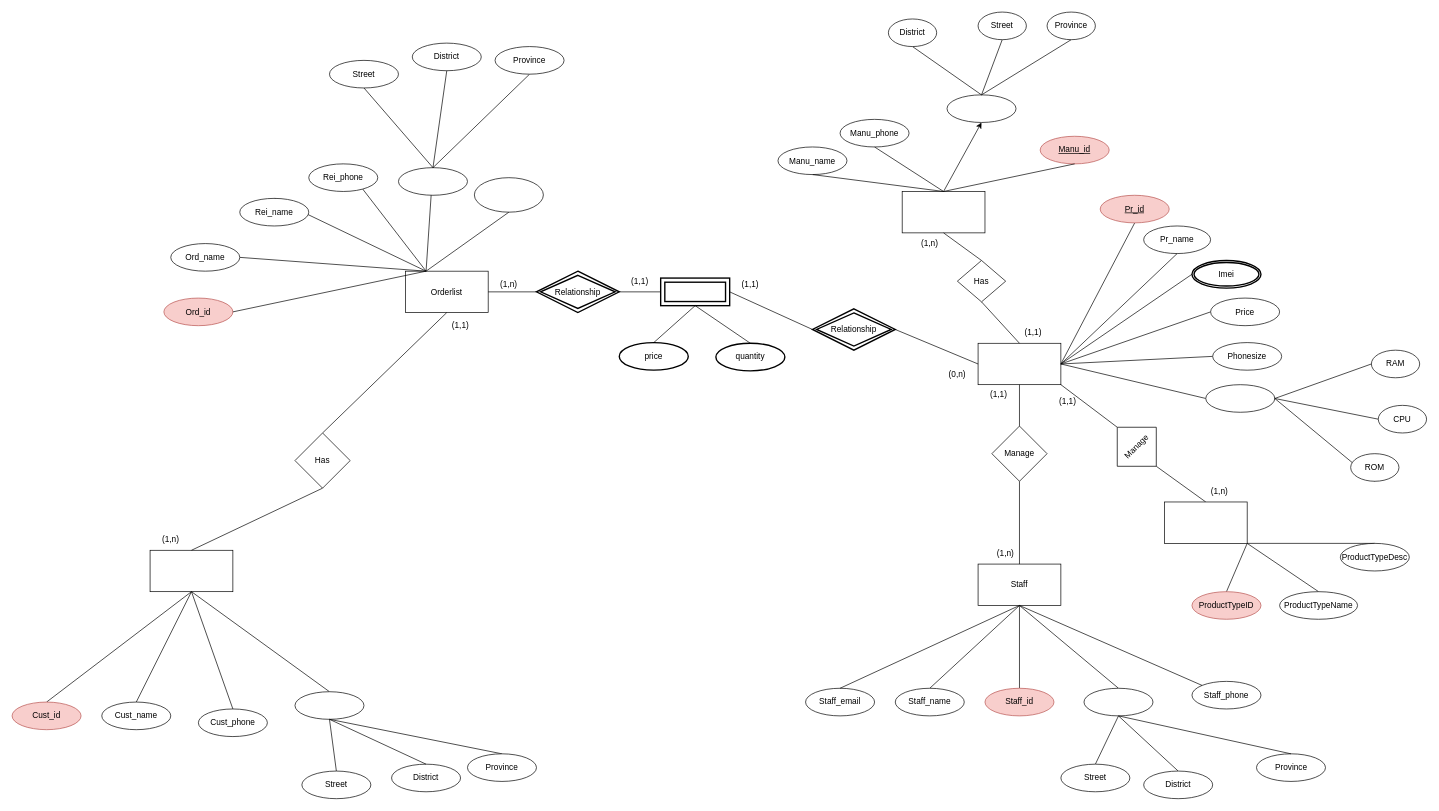
This 1439x811 diagram has some shape labels left out. Each missing label, with the box of its shape:
Capacities: (1205, 384, 1275, 412)
Cust_address: (294, 691, 364, 719)
Customers: (149, 550, 233, 592)
Manu_Address: (946, 94, 1016, 122)
Manufacturer: (901, 191, 985, 233)
Ord_detail: (660, 277, 730, 306)
Products: (977, 343, 1061, 385)
ProductType: (1164, 501, 1247, 543)
Rei_address: (398, 167, 467, 195)
Rei_email: (474, 177, 543, 212)
Staff_address: (1083, 688, 1153, 716)
